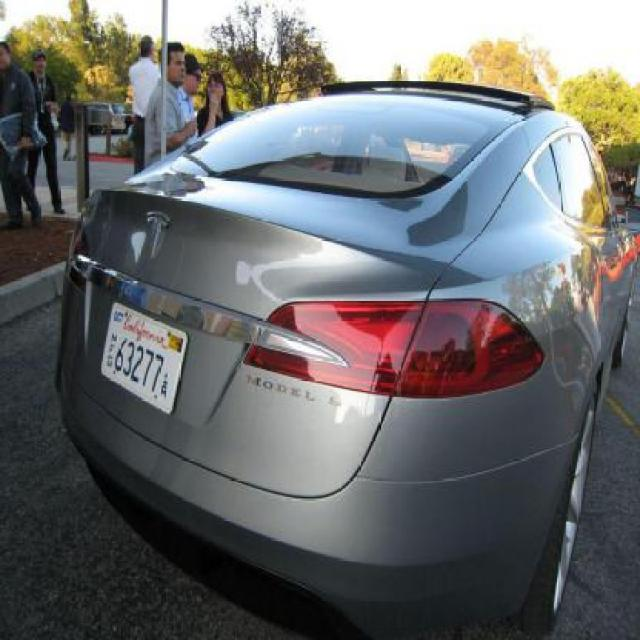License-Plates: (88, 295, 191, 431)
